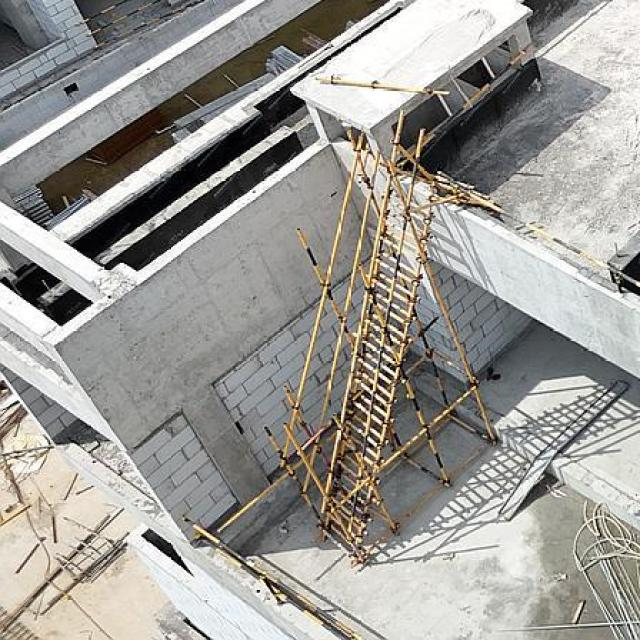edge_guardrail: (433, 174, 640, 294), (182, 515, 370, 640), (398, 44, 533, 166), (81, 0, 202, 49)
